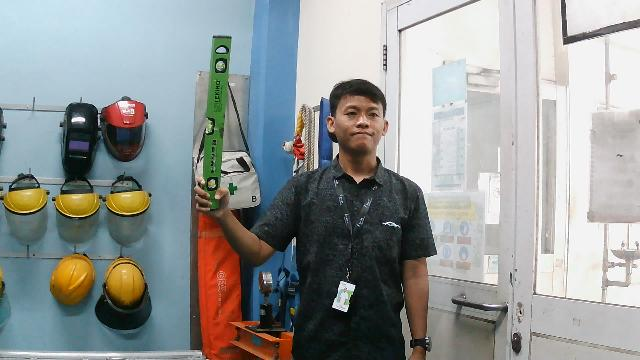water_pass: (191, 27, 235, 217)
